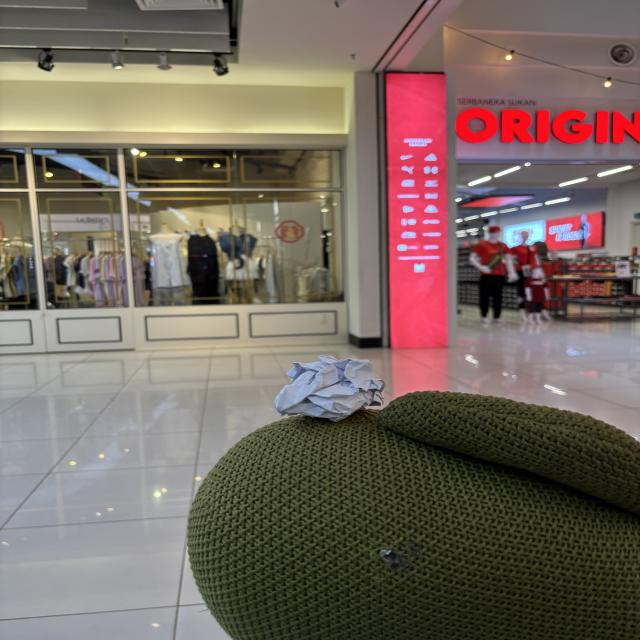crumpled_paper: (272, 353, 388, 425)
